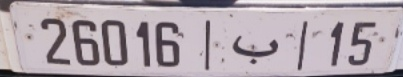0: (99, 19, 130, 67)
1: (134, 19, 152, 67), (329, 19, 343, 68)
2: (39, 18, 69, 67)
5: (348, 21, 376, 69)
6: (70, 18, 101, 66), (153, 21, 180, 65)
b: (228, 31, 281, 67)
